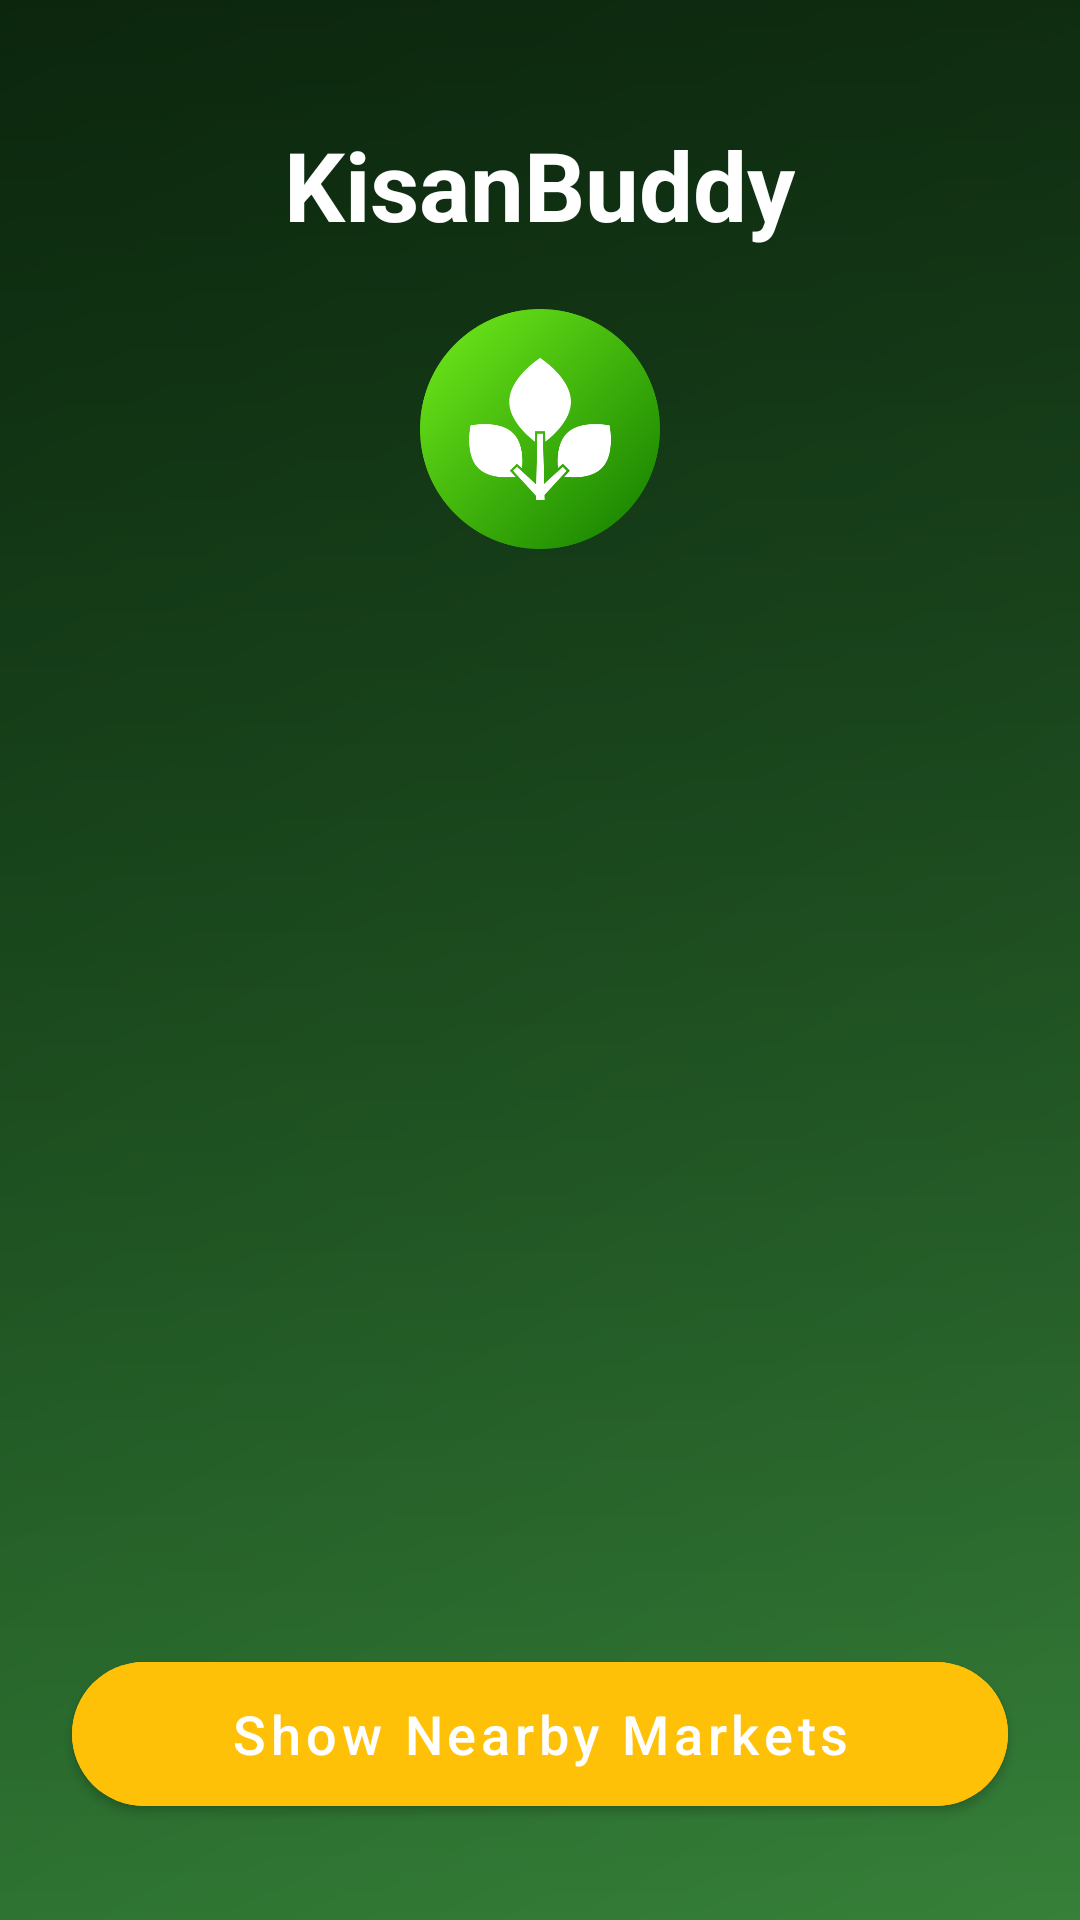

Screen size 1080px×1920px. Icon name, then its center in pixels as point (x, y):
crop: point (540, 429)
